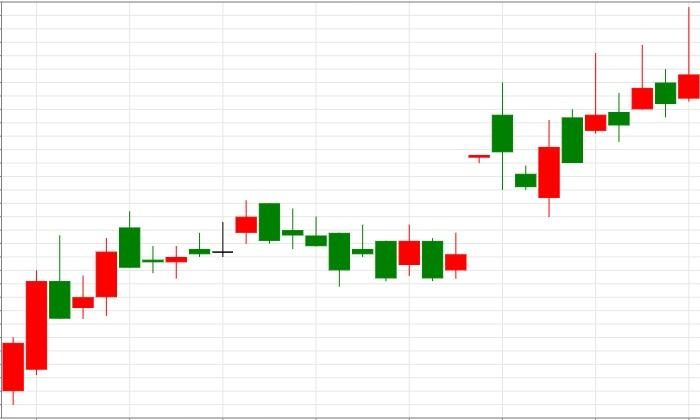shooting_star_fall: (538, 8, 700, 217)
